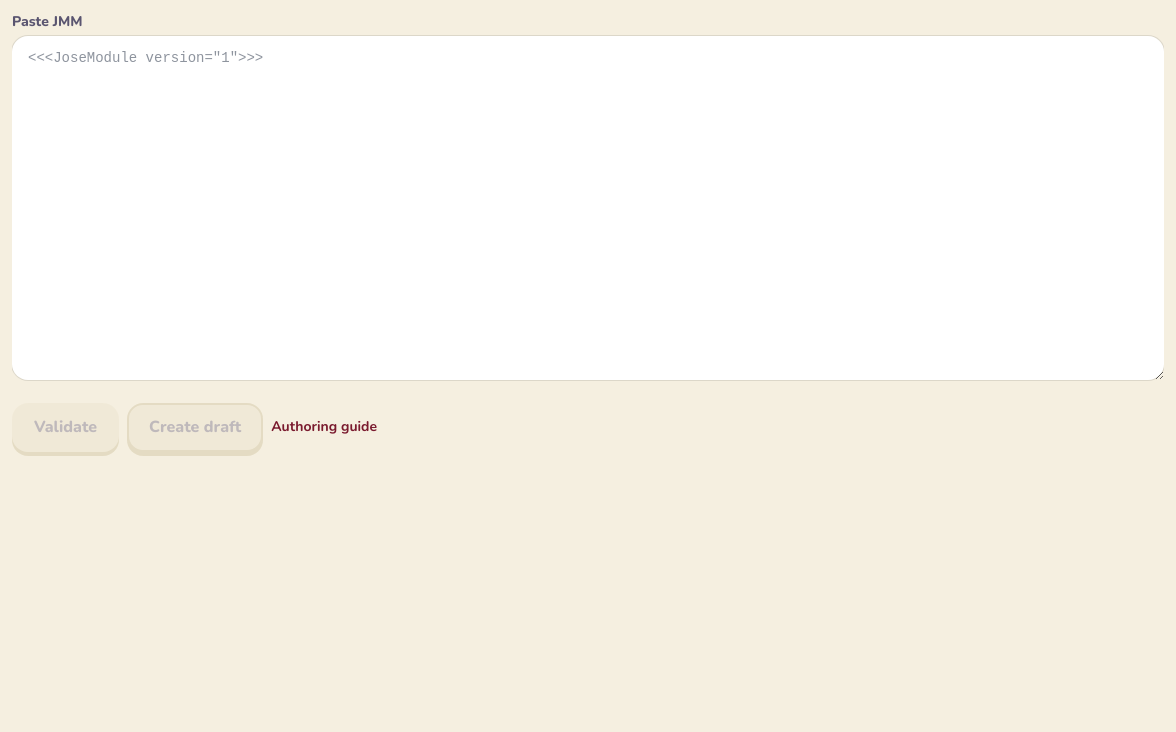
Test: teach jmm import › shows validation errors without committing
This screenshot has width=1176, height=732.
Type "<<<Fancy>>>" into the text box labelled "Paste JMM" at (588, 208), box [12,36,1164,380]
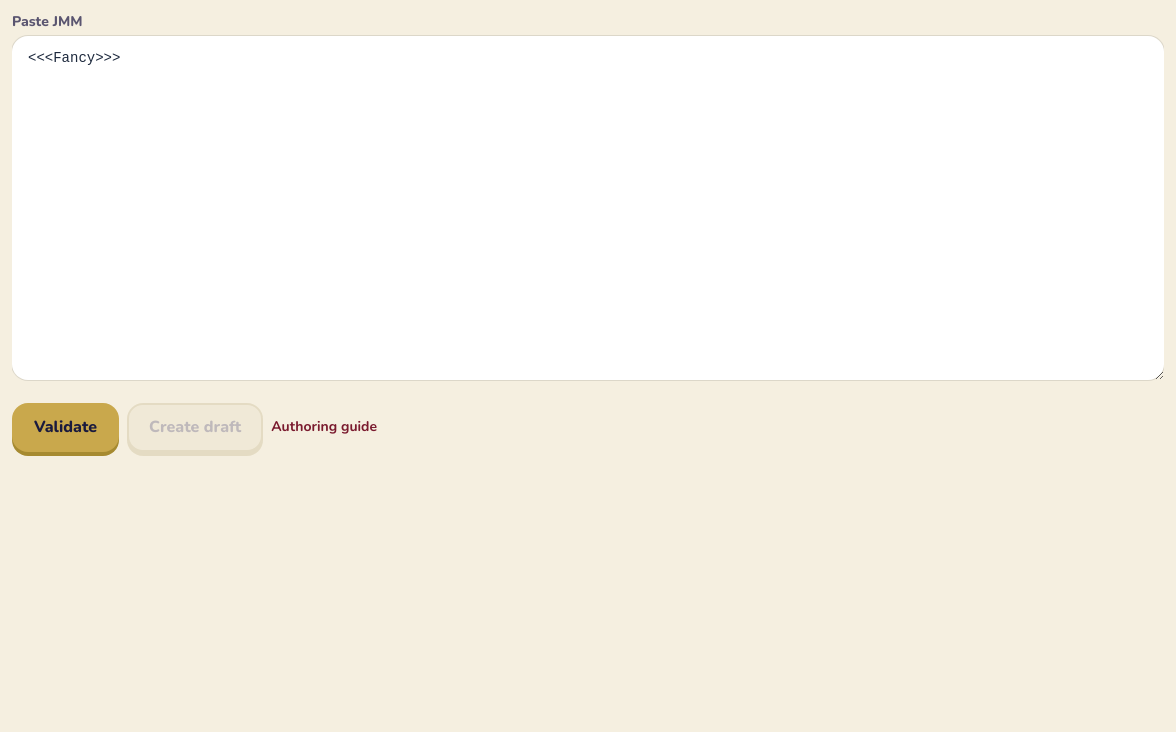
Click the button "Validate" at (66, 427), box [12,403,119,452]
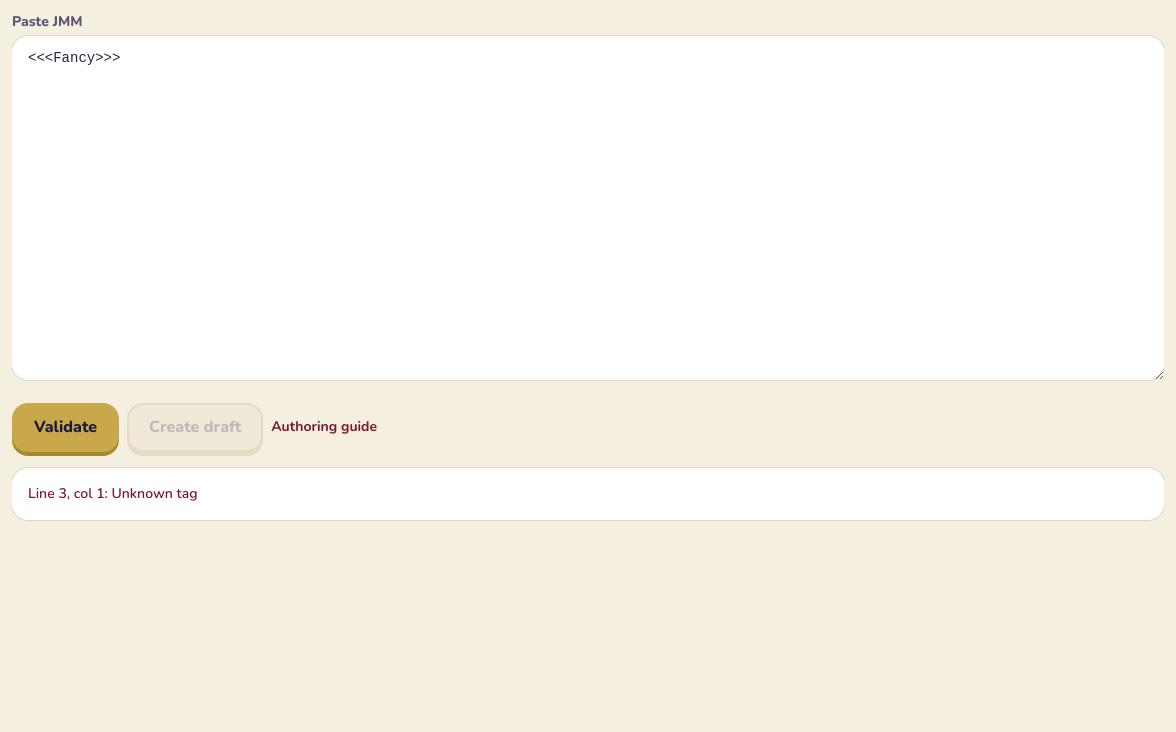
Expected: the list item "Line 3, col 1: Unknown tag" is shown, [28,484,198,503]
